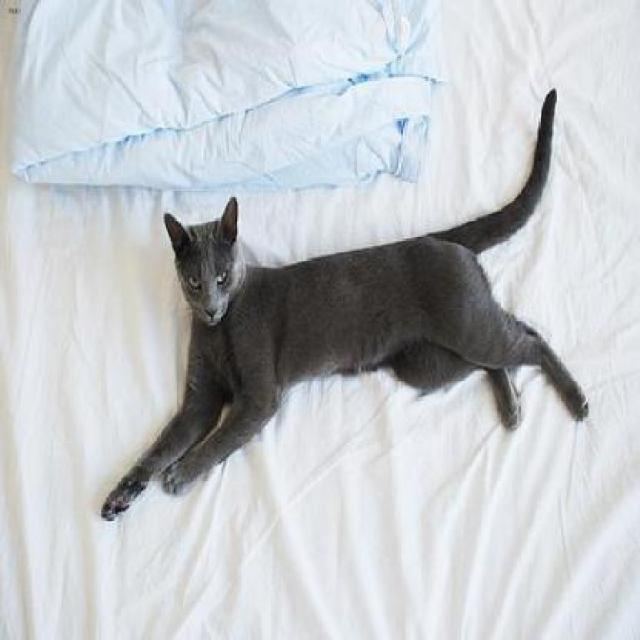cat: (99, 86, 590, 526)
